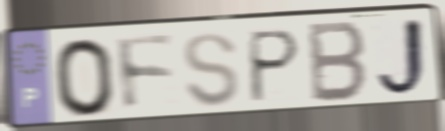B: (308, 18, 369, 105)
F: (113, 33, 179, 116)
J: (373, 15, 432, 100)
O: (51, 36, 118, 120)
P: (247, 27, 303, 106)
S: (181, 29, 242, 110)
